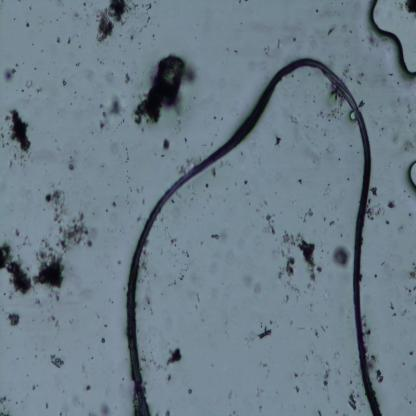Air bubble: (370, 0, 416, 81), (404, 157, 416, 190)
Background material: (131, 52, 197, 127), (0, 241, 34, 296), (30, 236, 65, 288), (95, 1, 135, 45), (42, 179, 72, 224), (58, 214, 90, 255), (4, 109, 32, 154), (299, 241, 318, 292), (276, 249, 296, 281), (325, 96, 344, 122), (332, 245, 352, 267), (366, 198, 384, 222), (138, 259, 152, 287), (280, 230, 302, 247), (262, 214, 278, 236), (166, 347, 181, 367), (322, 359, 332, 388), (187, 289, 201, 309), (178, 158, 194, 174), (362, 314, 371, 342), (367, 30, 380, 49), (4, 311, 19, 327), (367, 353, 379, 372), (286, 282, 300, 298), (72, 392, 86, 408), (50, 354, 63, 370), (400, 0, 416, 13), (99, 399, 111, 416), (188, 184, 198, 204), (110, 99, 121, 117), (152, 359, 166, 372), (347, 391, 357, 409), (257, 327, 272, 339), (22, 233, 34, 248), (48, 287, 60, 301), (374, 369, 385, 384), (31, 297, 43, 310), (257, 199, 268, 213), (2, 68, 13, 82), (322, 182, 332, 197), (244, 272, 254, 287), (408, 262, 416, 280), (219, 161, 233, 171), (404, 139, 414, 153), (311, 152, 321, 166), (142, 244, 151, 257), (143, 296, 151, 310), (86, 68, 94, 82), (168, 236, 178, 247), (90, 226, 98, 239), (272, 136, 282, 146), (106, 72, 115, 83), (41, 399, 50, 410), (256, 386, 265, 397), (349, 110, 357, 122), (25, 78, 33, 90), (370, 186, 378, 198), (126, 73, 134, 85), (263, 43, 270, 56), (162, 338, 171, 348), (172, 253, 180, 264), (110, 212, 117, 224), (162, 138, 169, 150), (328, 26, 336, 36), (400, 308, 410, 316), (48, 314, 56, 324), (306, 304, 316, 312), (163, 225, 170, 236), (81, 364, 88, 375), (205, 192, 212, 203), (0, 393, 7, 404), (211, 232, 219, 241), (73, 12, 82, 20), (290, 114, 298, 123), (388, 200, 396, 209), (324, 288, 330, 300), (228, 389, 234, 401), (296, 324, 308, 330), (283, 294, 290, 304), (220, 232, 227, 242), (14, 227, 20, 238), (100, 119, 106, 130), (277, 37, 282, 50), (68, 164, 76, 172), (316, 110, 324, 118), (182, 249, 190, 257), (358, 100, 366, 108), (352, 370, 360, 378), (35, 86, 43, 94), (405, 286, 412, 295), (254, 283, 261, 292), (54, 320, 61, 329), (340, 23, 346, 33), (389, 301, 395, 311), (84, 382, 90, 392), (16, 162, 24, 169), (334, 369, 342, 376), (163, 409, 171, 416), (397, 224, 404, 232), (10, 67, 17, 75), (302, 212, 307, 223), (308, 207, 314, 216), (135, 186, 144, 192), (334, 352, 340, 361), (392, 134, 398, 143), (183, 136, 189, 145), (407, 104, 412, 114), (211, 167, 216, 177), (38, 16, 43, 26), (136, 214, 142, 222), (100, 336, 106, 344), (170, 198, 176, 206), (334, 408, 340, 416), (249, 331, 255, 339), (184, 263, 190, 271), (268, 316, 274, 324), (115, 258, 121, 266), (295, 384, 301, 392), (342, 71, 348, 79), (326, 145, 331, 154), (0, 411, 9, 416), (306, 89, 312, 96), (298, 178, 304, 185), (18, 153, 25, 159), (146, 3, 152, 10), (141, 356, 147, 363), (316, 409, 322, 416), (8, 158, 12, 168), (26, 265, 31, 273), (103, 111, 108, 119), (315, 329, 319, 339), (130, 35, 135, 43), (67, 37, 72, 45), (134, 3, 139, 11), (204, 184, 210, 190), (85, 20, 91, 26), (389, 72, 395, 78), (110, 200, 116, 206), (88, 410, 94, 416), (98, 103, 104, 109), (150, 307, 154, 316), (320, 325, 326, 331), (166, 376, 172, 382), (392, 312, 398, 318), (347, 379, 352, 386), (107, 228, 114, 233), (318, 267, 323, 274), (121, 92, 126, 99), (31, 384, 36, 391), (108, 296, 113, 303), (142, 198, 146, 206), (9, 292, 13, 300), (258, 404, 262, 412), (146, 16, 150, 24), (62, 79, 66, 87), (100, 59, 105, 65), (178, 275, 184, 280), (77, 43, 82, 49), (348, 75, 353, 81), (409, 350, 414, 356), (233, 49, 239, 54), (243, 179, 249, 184), (232, 409, 237, 415), (381, 38, 387, 43), (329, 220, 335, 225), (292, 37, 297, 43), (295, 371, 299, 378), (0, 3, 4, 10), (40, 47, 44, 54), (304, 355, 308, 362), (305, 124, 309, 131), (28, 152, 32, 159), (356, 80, 361, 85), (385, 220, 390, 225), (62, 10, 67, 15), (68, 320, 73, 325), (201, 317, 206, 322), (411, 385, 416, 390), (139, 26, 143, 32), (153, 272, 157, 278), (75, 62, 81, 66), (128, 208, 132, 214), (141, 126, 145, 132), (96, 312, 100, 318), (380, 262, 386, 266), (159, 154, 165, 158), (28, 5, 32, 11), (26, 21, 30, 27), (88, 242, 92, 248), (57, 37, 61, 43), (289, 320, 293, 326), (327, 396, 330, 404), (188, 388, 192, 394), (360, 402, 366, 406), (345, 68, 349, 73), (30, 126, 34, 131), (23, 159, 28, 163), (58, 411, 62, 416), (315, 9, 319, 14), (360, 73, 364, 78), (212, 115, 216, 120), (131, 94, 135, 99), (140, 81, 144, 86), (262, 362, 267, 366), (17, 246, 21, 251), (404, 396, 408, 401), (129, 187, 133, 192), (260, 322, 263, 328), (13, 154, 16, 160), (398, 99, 401, 105), (122, 376, 125, 382), (413, 285, 416, 291), (122, 118, 125, 124), (34, 67, 38, 71), (104, 324, 108, 328), (374, 274, 378, 278), (408, 400, 412, 404), (238, 0, 242, 4), (143, 24, 147, 28), (54, 139, 58, 143), (152, 34, 156, 38), (174, 278, 176, 286), (396, 81, 400, 85), (340, 234, 344, 238), (73, 90, 77, 94), (20, 400, 24, 404), (338, 157, 342, 161), (14, 63, 18, 67), (324, 132, 328, 136), (201, 240, 204, 245), (31, 63, 34, 68), (97, 57, 100, 62), (245, 337, 248, 342), (291, 73, 294, 78), (3, 291, 6, 296), (141, 4, 144, 8), (2, 132, 4, 138), (0, 125, 3, 129), (194, 36, 197, 40), (311, 350, 314, 354), (357, 150, 360, 154), (69, 156, 73, 159), (17, 0, 21, 3), (26, 373, 29, 377), (348, 62, 351, 66), (150, 350, 152, 356), (405, 115, 408, 119), (8, 398, 11, 402), (402, 362, 405, 366), (223, 198, 226, 202), (381, 127, 384, 131), (407, 194, 410, 198), (246, 192, 250, 195), (211, 140, 213, 146), (350, 144, 353, 148), (348, 30, 352, 33), (154, 0, 157, 4), (316, 124, 319, 128), (408, 212, 411, 216), (409, 82, 412, 86), (341, 1, 344, 5), (91, 212, 95, 215), (34, 355, 38, 358), (4, 405, 6, 410), (149, 339, 151, 344), (346, 54, 348, 59), (308, 73, 311, 76), (91, 3, 94, 6), (10, 209, 13, 212), (313, 100, 316, 103), (126, 194, 129, 197), (123, 288, 126, 291), (15, 401, 18, 404), (323, 218, 326, 221), (321, 249, 324, 252), (122, 63, 125, 66), (375, 122, 378, 125), (329, 2, 332, 5), (226, 48, 229, 51), (119, 44, 121, 48), (348, 177, 350, 181), (45, 168, 47, 172), (22, 89, 24, 93), (414, 301, 416, 305), (362, 38, 364, 42), (244, 0, 248, 2), (358, 394, 360, 398), (84, 3, 86, 7), (91, 356, 93, 360), (12, 18, 16, 20), (120, 34, 122, 37), (338, 13, 340, 16), (32, 43, 34, 46), (240, 22, 242, 25), (153, 38, 155, 41), (84, 8, 86, 11), (47, 73, 50, 75), (346, 2, 349, 4), (56, 18, 58, 21), (321, 90, 324, 92), (275, 192, 277, 195), (118, 124, 121, 126), (326, 326, 328, 329), (139, 42, 141, 45), (138, 8, 140, 11), (127, 202, 130, 204), (379, 129, 381, 132), (22, 62, 24, 65), (91, 132, 93, 135), (59, 348, 61, 351), (119, 61, 122, 63), (49, 21, 52, 23), (32, 319, 35, 321), (93, 197, 95, 200), (389, 161, 391, 164), (221, 117, 223, 120), (236, 113, 238, 116), (2, 308, 4, 311), (121, 121, 123, 124), (393, 267, 394, 272), (38, 189, 40, 191), (29, 95, 31, 97), (58, 0, 60, 2), (2, 0, 4, 2), (17, 358, 19, 360), (380, 106, 382, 108), (126, 106, 128, 108), (70, 103, 72, 105), (406, 393, 408, 395), (380, 110, 382, 112), (204, 144, 206, 146), (42, 319, 44, 321), (134, 72, 136, 74), (62, 5, 64, 7), (116, 127, 118, 129), (146, 12, 148, 14), (107, 127, 108, 131), (7, 347, 9, 349), (74, 150, 76, 152), (124, 50, 126, 52), (108, 183, 110, 185), (82, 140, 84, 142), (92, 148, 94, 150), (76, 35, 78, 37), (7, 97, 9, 99), (11, 186, 13, 188), (143, 71, 145, 73), (380, 134, 381, 137), (121, 69, 122, 72), (37, 384, 38, 387), (43, 348, 44, 351), (81, 35, 82, 37), (45, 163, 46, 165), (404, 190, 405, 192), (202, 144, 203, 146), (6, 87, 8, 88), (114, 131, 116, 132), (16, 90, 18, 91), (139, 48, 140, 50), (116, 247, 118, 248), (378, 118, 380, 119), (400, 166, 401, 168), (249, 203, 250, 205), (127, 66, 128, 68), (101, 131, 102, 133), (88, 99, 90, 100), (360, 26, 362, 27), (127, 180, 128, 182), (338, 218, 339, 220), (119, 230, 121, 231), (100, 282, 102, 283), (108, 208, 108, 213)
Microfibre: (124, 57, 384, 416)
